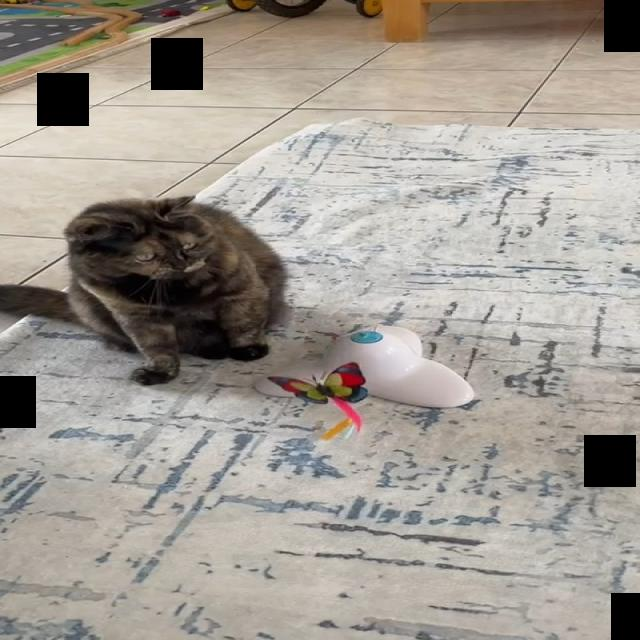authorized: (0, 194, 289, 385)
